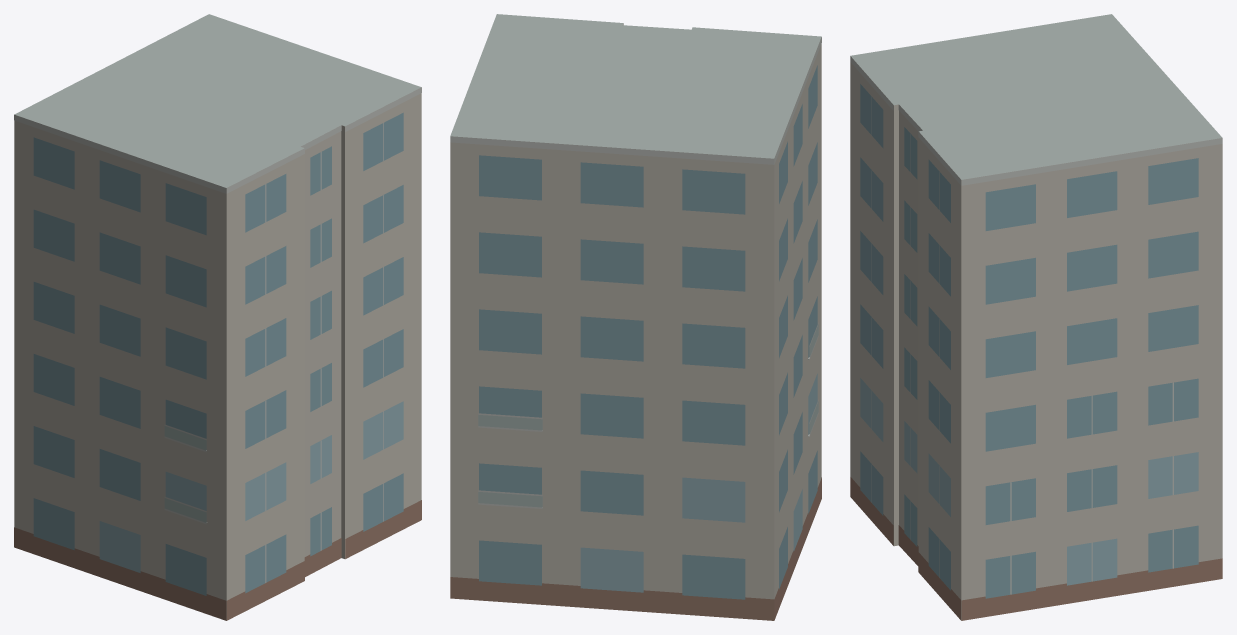
Rendered from survey-upis-32967923.glb.
The picture shows the model from 3 angles, left to right: view 1: azimuth 30°, elevation 25°; view 2: azimuth 150°, elevation 25°; view 3: azimuth 270°, elevation 25°; orthographic projection. The views are drawn at different scales.
Visible parts, largest first — view 1: survey-upis-32967923.tmp; view 2: survey-upis-32967923.tmp; view 3: survey-upis-32967923.tmp.
Part boxes in pixels (x1,y1,x2,y2): survey-upis-32967923.tmp: (14, 14, 421, 620); survey-upis-32967923.tmp: (450, 14, 821, 620); survey-upis-32967923.tmp: (850, 14, 1222, 620).
Size of the model in its own units: 14.7 by 18.2 by 13.94.
